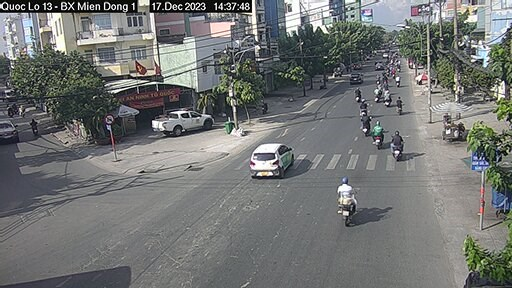car: (251, 141, 300, 183), (153, 108, 217, 136), (349, 72, 363, 86)
motorbike: (330, 182, 357, 224), (388, 129, 411, 162), (358, 99, 373, 120), (397, 99, 409, 119), (361, 115, 371, 138), (373, 118, 381, 145), (353, 85, 363, 104), (385, 90, 393, 106)
